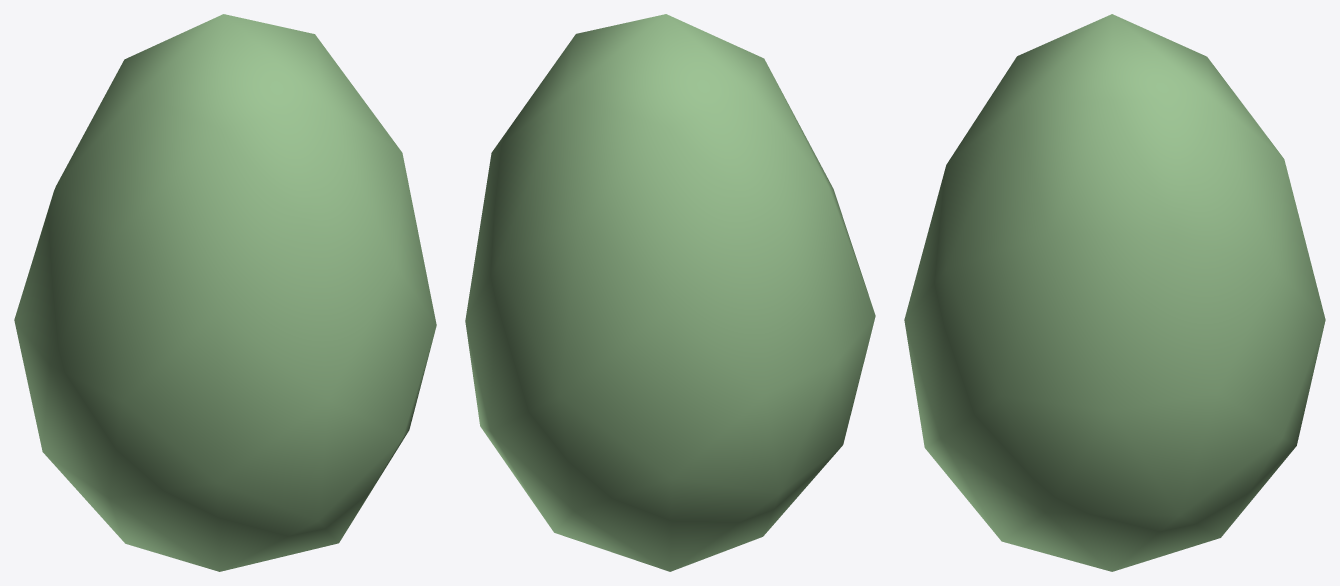
File: tree-broadleaf-a-crown-far.glb
The picture shows the model from 3 angles, left to right: view 1: azimuth 30°, elevation 25°; view 2: azimuth 150°, elevation 25°; view 3: azimuth 270°, elevation 25°; orthographic projection.
Parts seen in each view (by area): view 1: tree-broadleaf-a-crown-far; view 2: tree-broadleaf-a-crown-far; view 3: tree-broadleaf-a-crown-far.
Part boxes in pixels (bbox=[...]): tree-broadleaf-a-crown-far: bbox=[14, 14, 436, 571]; tree-broadleaf-a-crown-far: bbox=[465, 14, 875, 571]; tree-broadleaf-a-crown-far: bbox=[904, 14, 1325, 571].
Size of the model in its own units: 0.4853 by 0.6876 by 0.4938.
